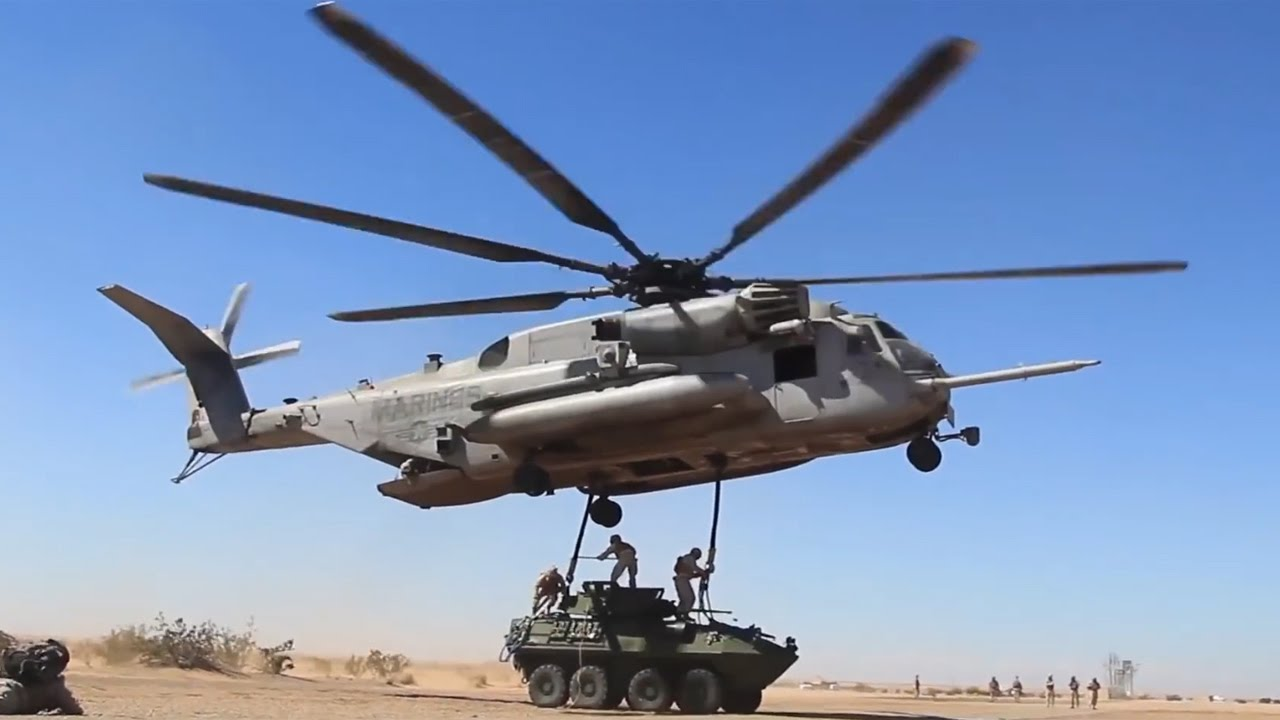MilitaryHelicopter: (136, 228, 1138, 514)
